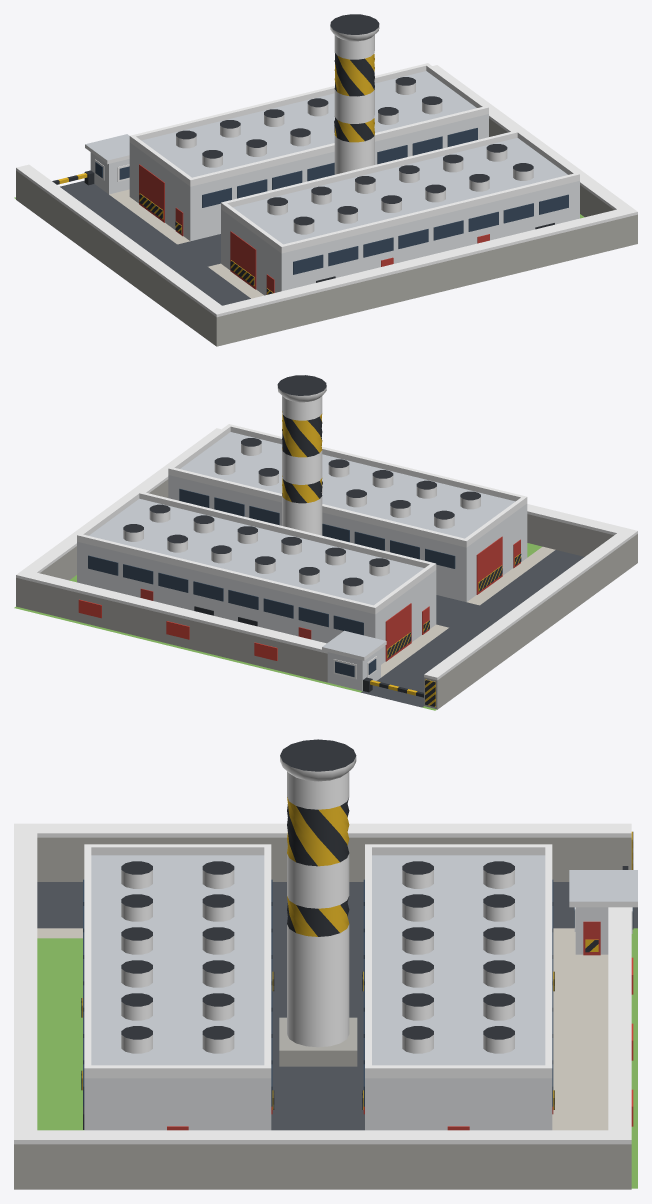
File: enrichment.glb
The picture shows the model from 3 angles, top to bottom: view 1: azimuth 30°, elevation 25°; view 2: azimuth 150°, elevation 25°; view 3: azimuth 270°, elevation 25°; orthographic projection. The views are drawn at different scales.
Parts seen in each view (by area): view 1: roof (×3), blast_wall (×3), wall (×3), parapet (×2), coping (×3), drive, vent (×3), roller_door (×2), hazard_stripe (×2), paving (×2), yard, grille; view 2: roof (×3), wall (×3), blast_wall (×4), parapet (×2), coping (×4), drive, vent (×3), paving (×2), roller_door (×2), hazard_stripe (×2), lawn, yard (+1 smaller); view 3: roof (×3), blast_wall (×2), coping (×4), wall (×3), parapet (×2), vent (×4), lawn (×2), paving, yard (×2), hazard_stripe (×4), drive, plinth (+1 smaller).
Part boxes in pixels (x1=…): roof (×3): x1=85, y1=71, x2=567, y2=244; blast_wall (×3): x1=16, y1=118, x2=637, y2=346; wall (×3): x1=90, y1=114, x2=579, y2=295; parapet (×2): x1=129, y1=63, x2=579, y2=253; coping (×3): x1=16, y1=65, x2=637, y2=317; drive: x1=60, y1=180, x2=250, y2=305; vent (×3): x1=334, y1=35, x2=374, y2=174; roller_door (×2): x1=139, y1=164, x2=256, y2=289; hazard_stripe (×2): x1=334, y1=53, x2=374, y2=96; paving (×2): x1=117, y1=197, x2=263, y2=298; yard: x1=177, y1=234, x2=220, y2=266; grille: x1=330, y1=14, x2=379, y2=34; roof (×3): x1=89, y1=432, x2=515, y2=656; wall (×3): x1=77, y1=475, x2=527, y2=690; blast_wall (×4): x1=16, y1=479, x2=637, y2=709; parapet (×2): x1=77, y1=424, x2=527, y2=614; coping (×4): x1=16, y1=428, x2=637, y2=680; drive: x1=361, y1=550, x2=584, y2=707; vent (×3): x1=282, y1=396, x2=322, y2=535; paving (×2): x1=381, y1=546, x2=555, y2=671; roller_door (×2): x1=385, y1=536, x2=502, y2=661; hazard_stripe (×2): x1=282, y1=411, x2=322, y2=457; lawn: x1=14, y1=606, x2=362, y2=692; yard: x1=436, y1=595, x2=479, y2=627; roof (×3): x1=91, y1=855, x2=637, y2=1065; blast_wall (×2): x1=14, y1=837, x2=631, y2=1189; coping (×4): x1=14, y1=823, x2=631, y2=1144; wall (×3): x1=84, y1=907, x2=608, y2=1130; parapet (×2): x1=84, y1=844, x2=552, y2=1078; vent (×4): x1=280, y1=756, x2=356, y2=1047; lawn (×2): x1=37, y1=928, x2=637, y2=1188; paving: x1=552, y1=954, x2=608, y2=1130; yard (×2): x1=271, y1=928, x2=364, y2=1130; hazard_stripe (×4): x1=287, y1=797, x2=349, y2=936; drive: x1=37, y1=882, x2=637, y2=928; plinth: x1=279, y1=1017, x2=357, y2=1066.
Bounding box in the file's own units: 48 × 20.9 × 40.
